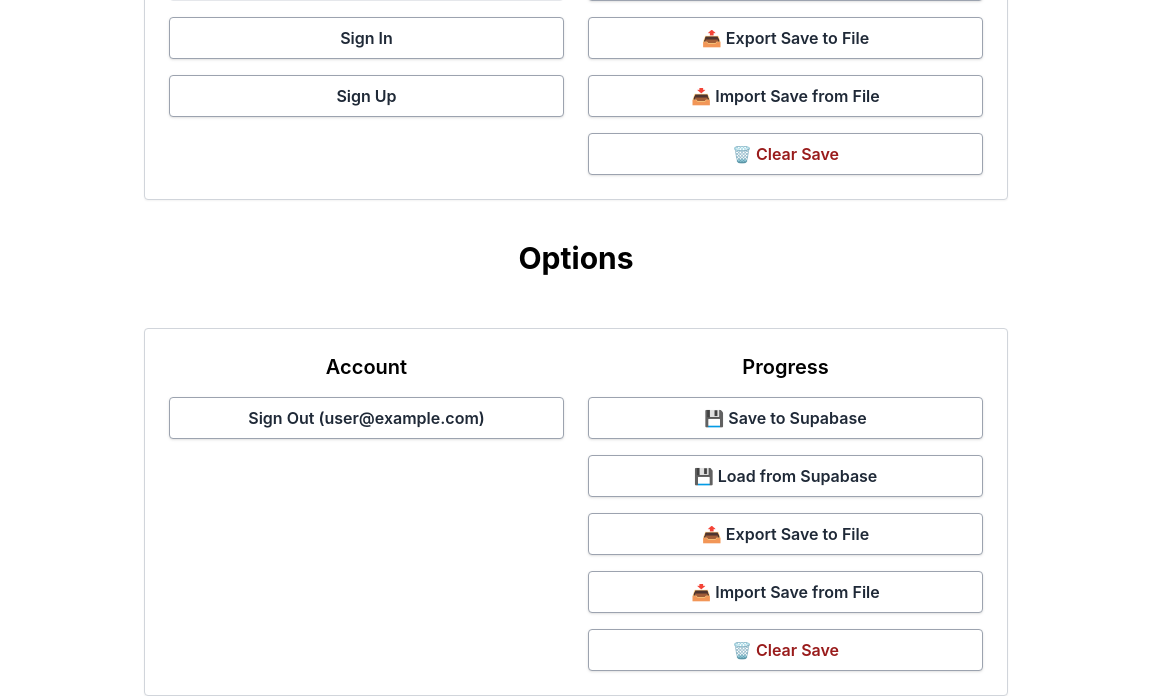
Test: signs out and clears save
This screenshot has width=1152, height=696.
(page scrolled)
Click the button "Sign Out (user@example.com)" at point(366, 418), box top-left (169, 397), bottom-right (564, 439)
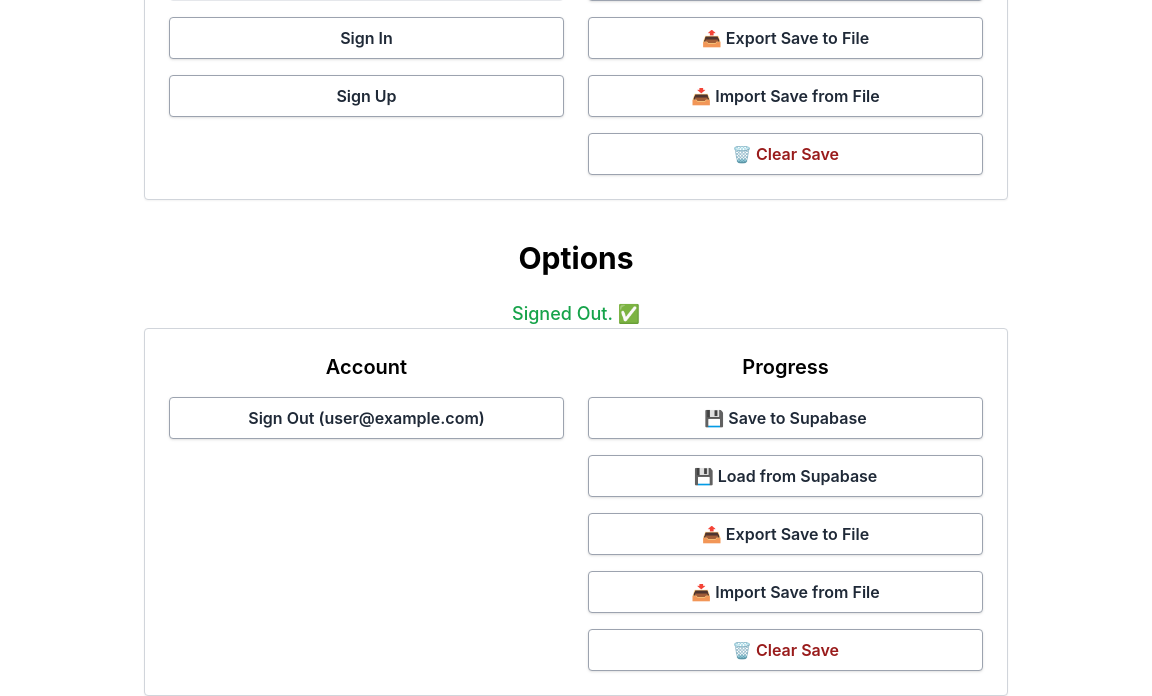
Expected: the text "Signed Out. ✅" is shown, top-left (512, 303), bottom-right (640, 324)
